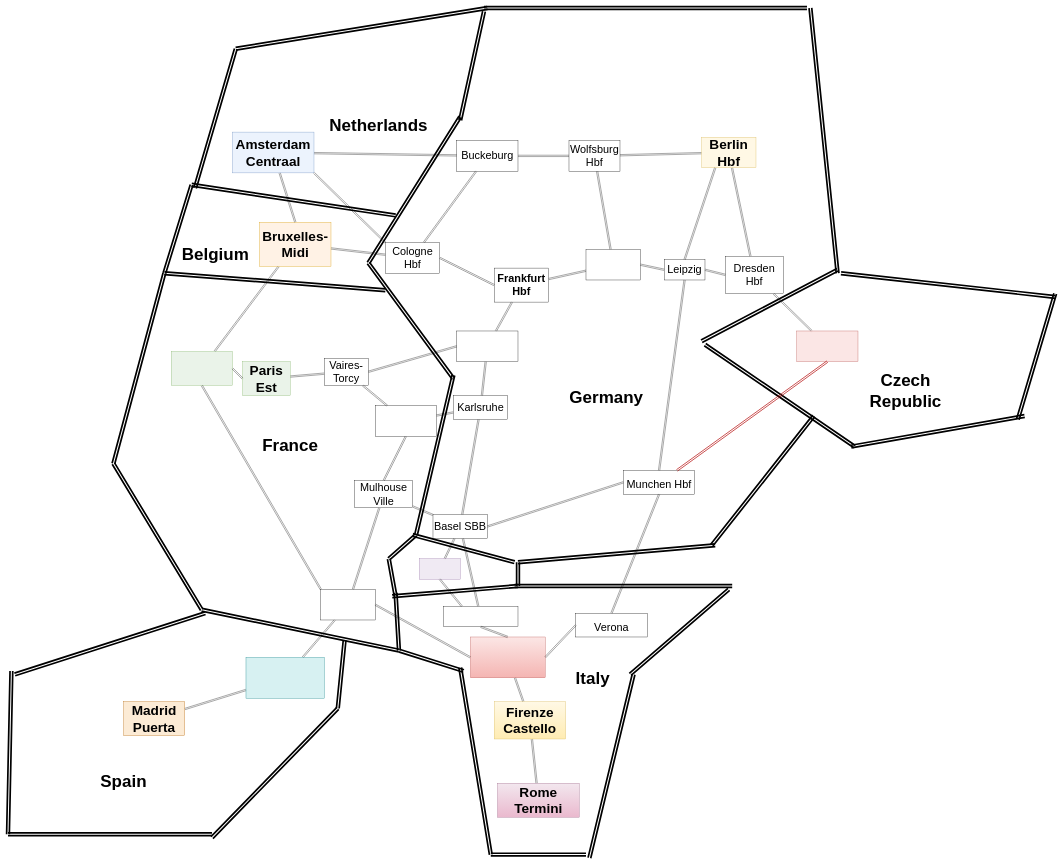
Some shapes in this 1063 by 865 pixel diagram are drawn without their labels. Each missing label, with the centre of its shape:
Barcelona-sants: pixel 285 677
Bern: pixel 439 568
Domodossola: pixel 480 616
Fulda: pixel 613 264
Mannheim Hbf: pixel 487 346
Milano Centrale: pixel 507 657
Nimes Centre: pixel 347 604
Paris Nord: pixel 201 368
Prague hl: pixel 827 346
Strasbourg-Kehl: pixel 405 420
